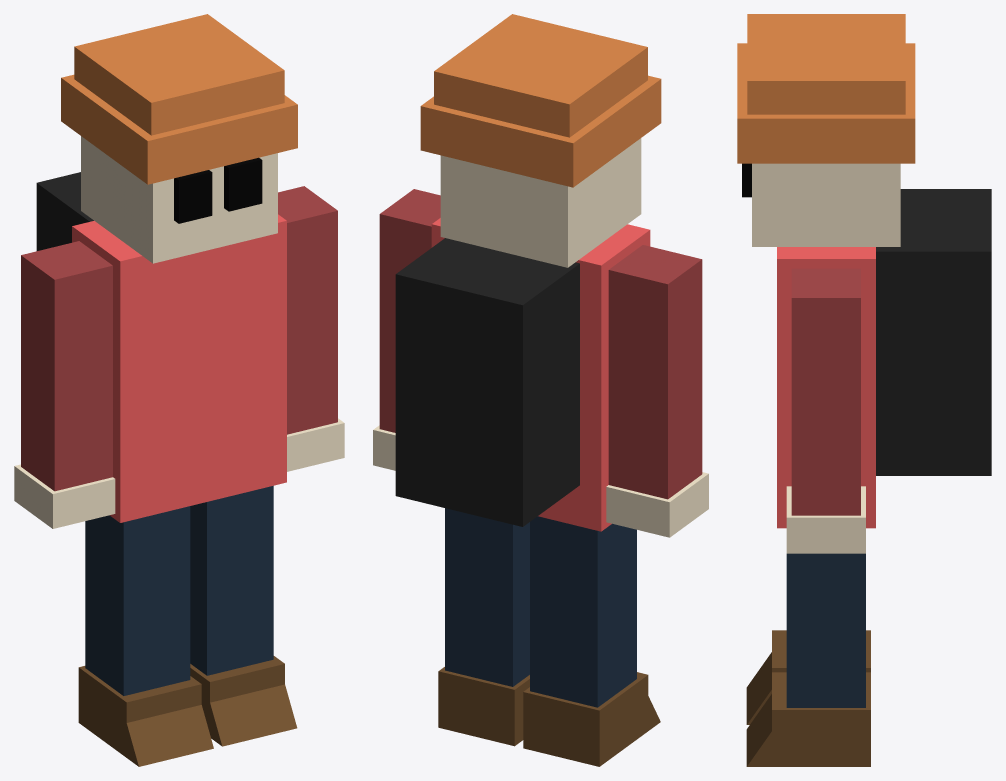
File: Character.glb
3 views of the same model, side by side, from view 1: azimuth 30°, elevation 25°; view 2: azimuth 150°, elevation 25°; view 3: azimuth 270°, elevation 25° (orthographic). The views are drawn at different scales.
Visible parts, largest first — view 1: body, left_arm, left_leg, hat_upper, right_leg, right_arm, head, hat_lower, boot_left, boot_right, left_hand, backpack (+3 smaller); view 2: backpack, left_arm, left_leg, hat_upper, head, right_leg, hat_lower, body, boot_left, right_arm, boot_right, left_hand (+1 smaller); view 3: backpack, right_arm, hat_upper, head, right_leg, hat_lower, body, boot_right, right_hand, boot_left.
Boxes of the visible parts, x1=… form: body: x1=72, y1=214, x2=286, y2=522; left_arm: x1=21, y1=241, x2=112, y2=491; left_leg: x1=85, y1=506, x2=190, y2=695; hat_upper: x1=74, y1=14, x2=284, y2=135; right_leg: x1=190, y1=485, x2=273, y2=675; right_arm: x1=278, y1=186, x2=337, y2=434; head: x1=81, y1=136, x2=277, y2=263; hat_lower: x1=61, y1=74, x2=297, y2=184; boot_left: x1=78, y1=666, x2=213, y2=766; boot_right: x1=190, y1=656, x2=297, y2=746; left_hand: x1=14, y1=464, x2=115, y2=528; backpack: x1=36, y1=172, x2=93, y2=250; backpack: x1=395, y1=238, x2=579, y2=526; left_arm: x1=608, y1=245, x2=702, y2=499; left_leg: x1=530, y1=516, x2=636, y2=707; hat_upper: x1=434, y1=14, x2=647, y2=137; head: x1=440, y1=138, x2=641, y2=267; right_leg: x1=445, y1=508, x2=529, y2=686; hat_lower: x1=420, y1=75, x2=661, y2=187; body: x1=431, y1=218, x2=650, y2=531; boot_left: x1=523, y1=672, x2=660, y2=766; right_arm: x1=379, y1=189, x2=440, y2=432; boot_right: x1=438, y1=667, x2=529, y2=746; left_hand: x1=606, y1=472, x2=708, y2=537; backpack: x1=876, y1=189, x2=991, y2=475; right_arm: x1=791, y1=268, x2=860, y2=515; hat_upper: x1=747, y1=14, x2=905, y2=114; head: x1=752, y1=163, x2=900, y2=246; right_leg: x1=786, y1=553, x2=865, y2=707; hat_lower: x1=737, y1=43, x2=915, y2=163; body: x1=777, y1=247, x2=875, y2=528; boot_right: x1=746, y1=672, x2=870, y2=766; right_hand: x1=786, y1=486, x2=865, y2=553; boot_left: x1=746, y1=630, x2=870, y2=724.
Bounding box in the file's own units: 0.7 × 1.51 × 0.514.
